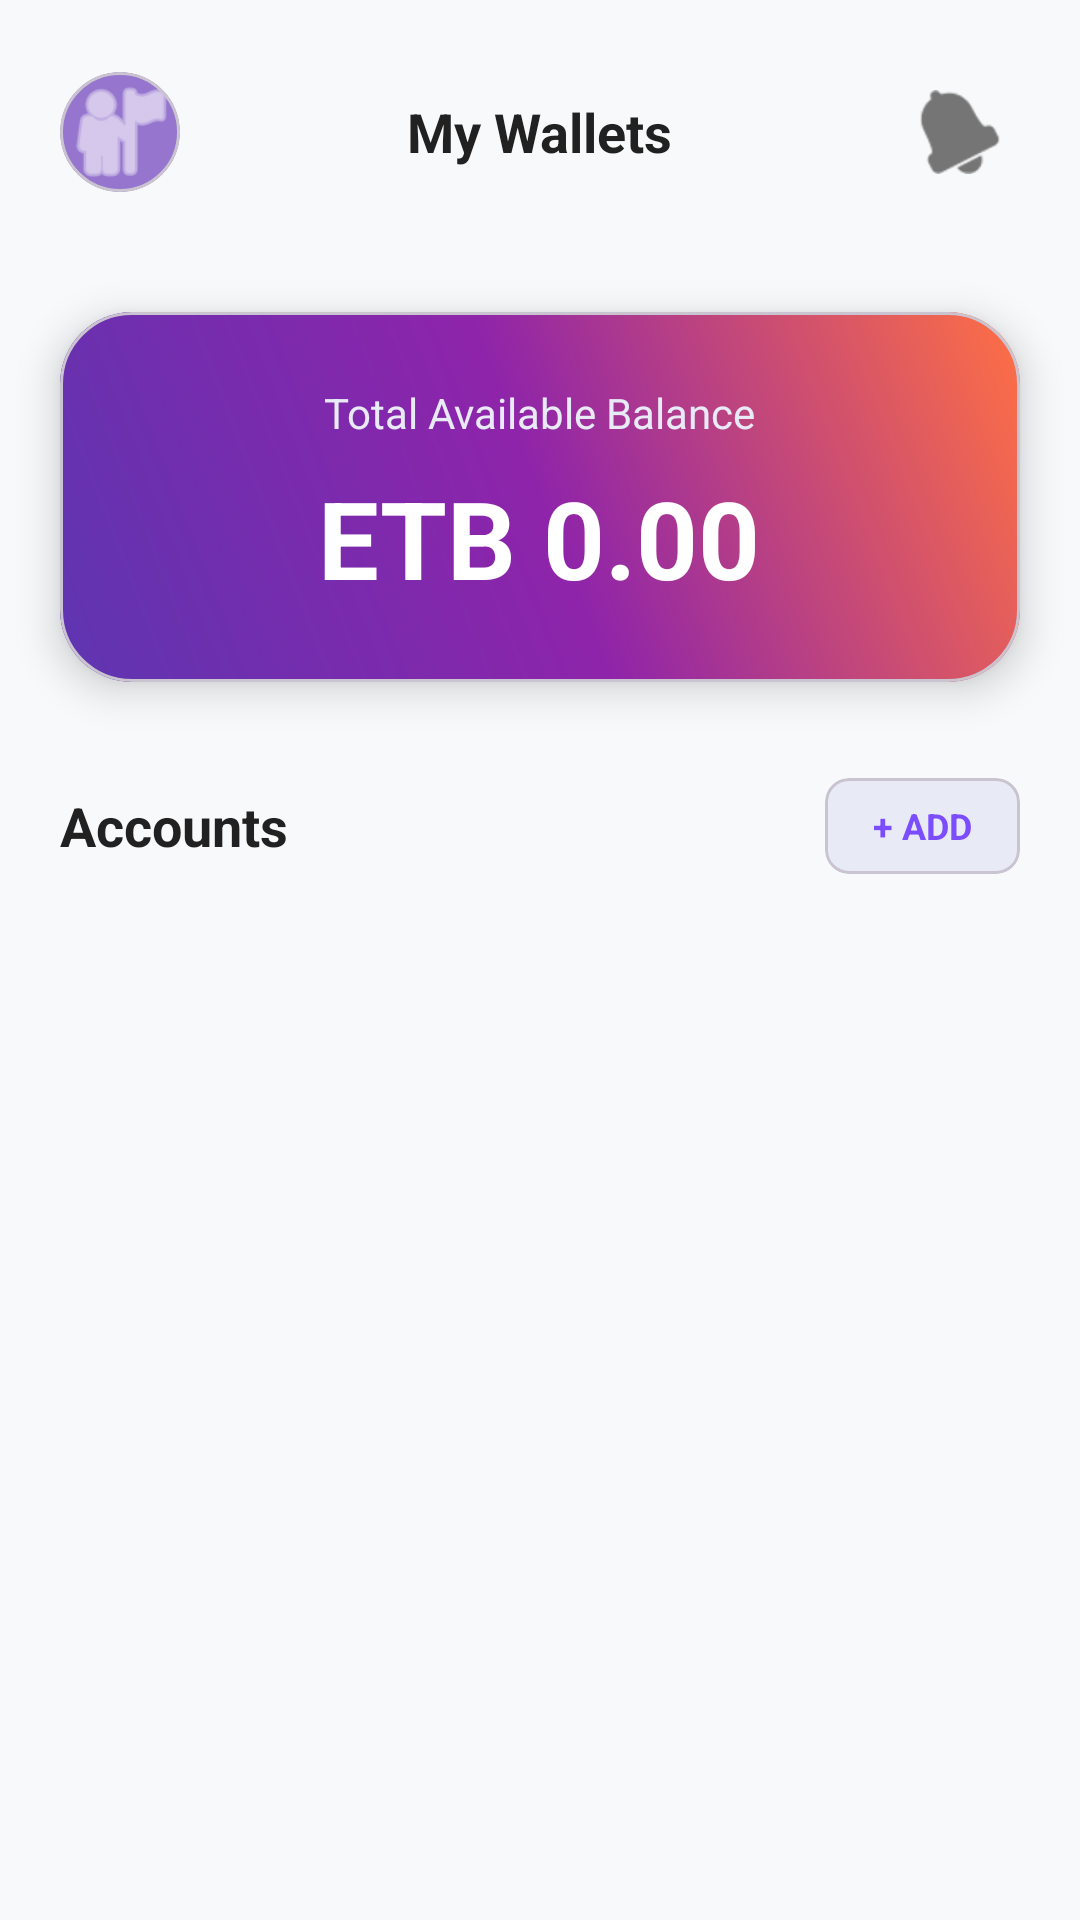

Locate icon controls on the screen. Image size 1080 x 1920, boxes as (x1=x1, y1=y1, x2=x2, y2=y2).
myplaces: (x1=60, y1=72, x2=180, y2=192)
popup reminder: (x1=921, y1=90, x2=999, y2=174)
